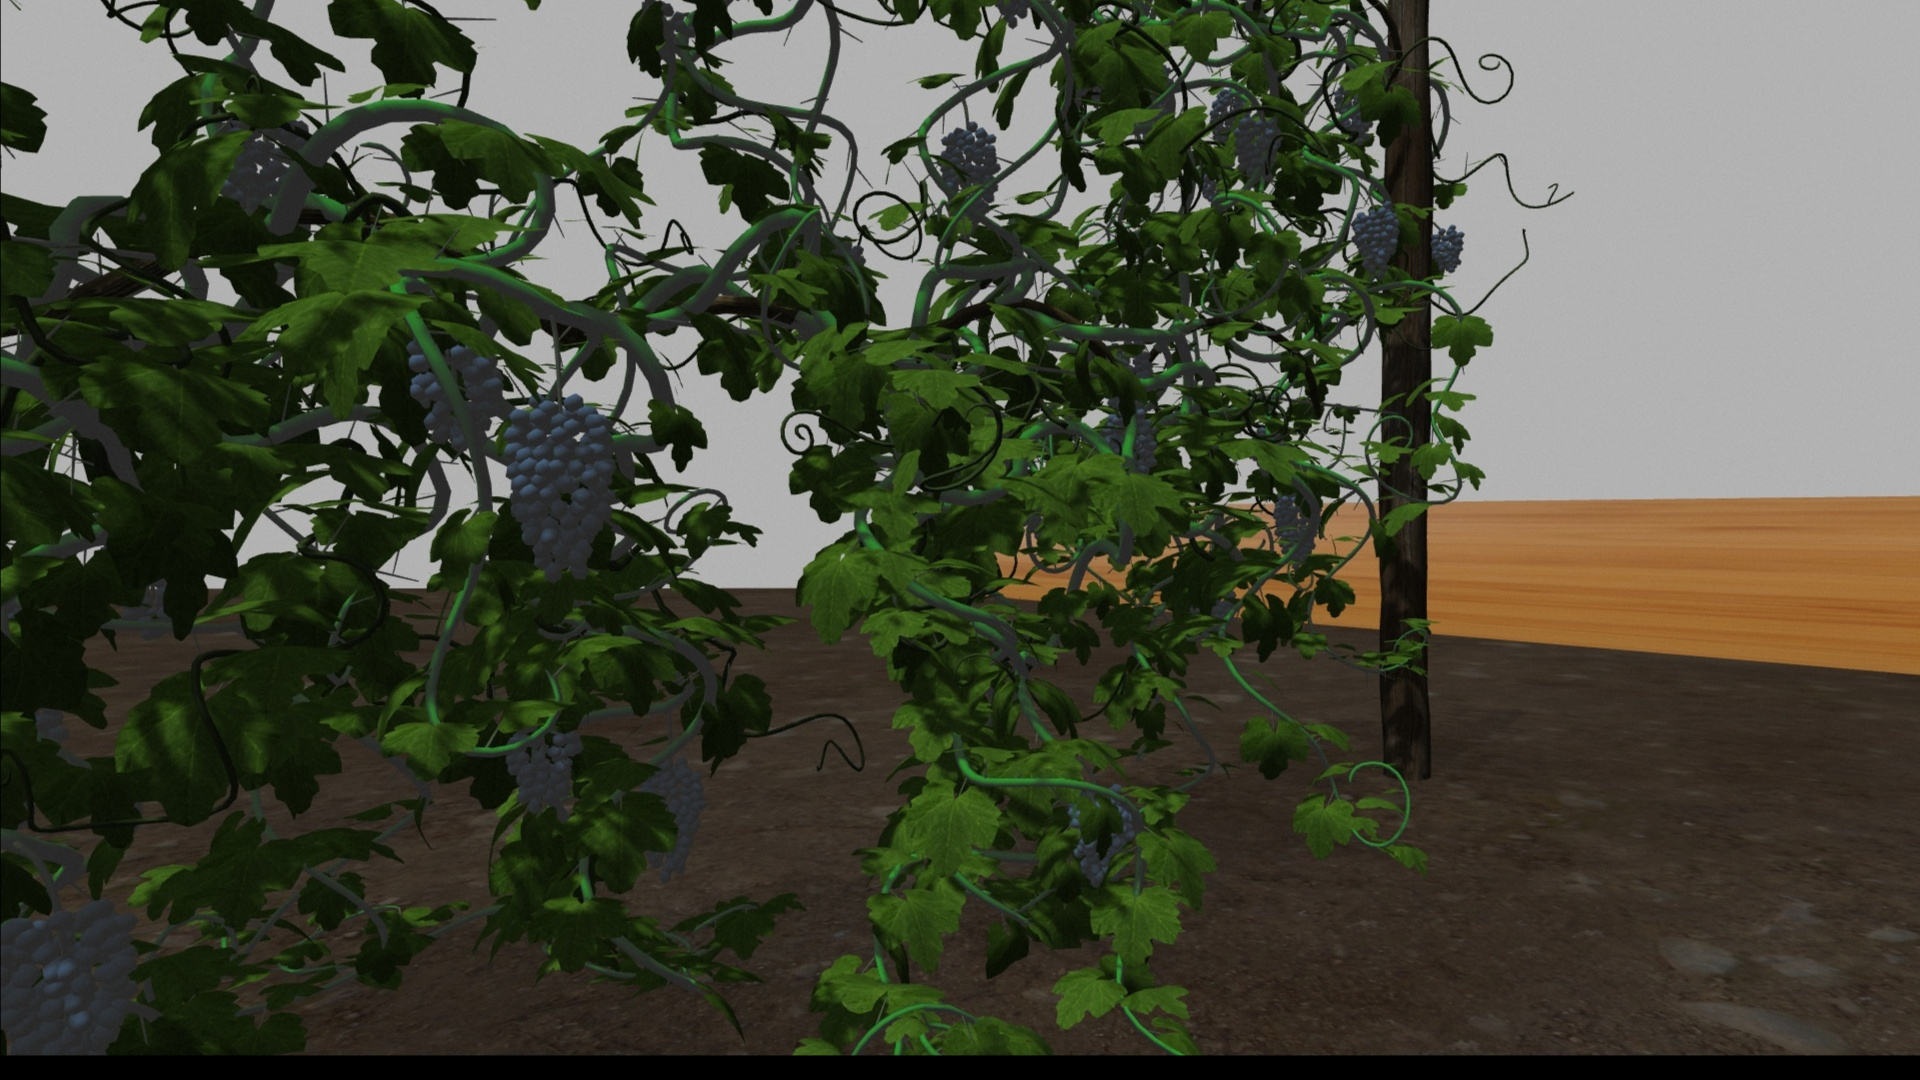grape: (4, 898, 149, 1051), (502, 396, 615, 583), (405, 334, 502, 454), (628, 757, 707, 882), (504, 723, 584, 822), (1067, 785, 1134, 890), (939, 123, 1000, 219), (1352, 202, 1400, 277), (1273, 491, 1321, 566), (1233, 116, 1279, 187), (1208, 90, 1247, 146), (1431, 224, 1465, 273)
